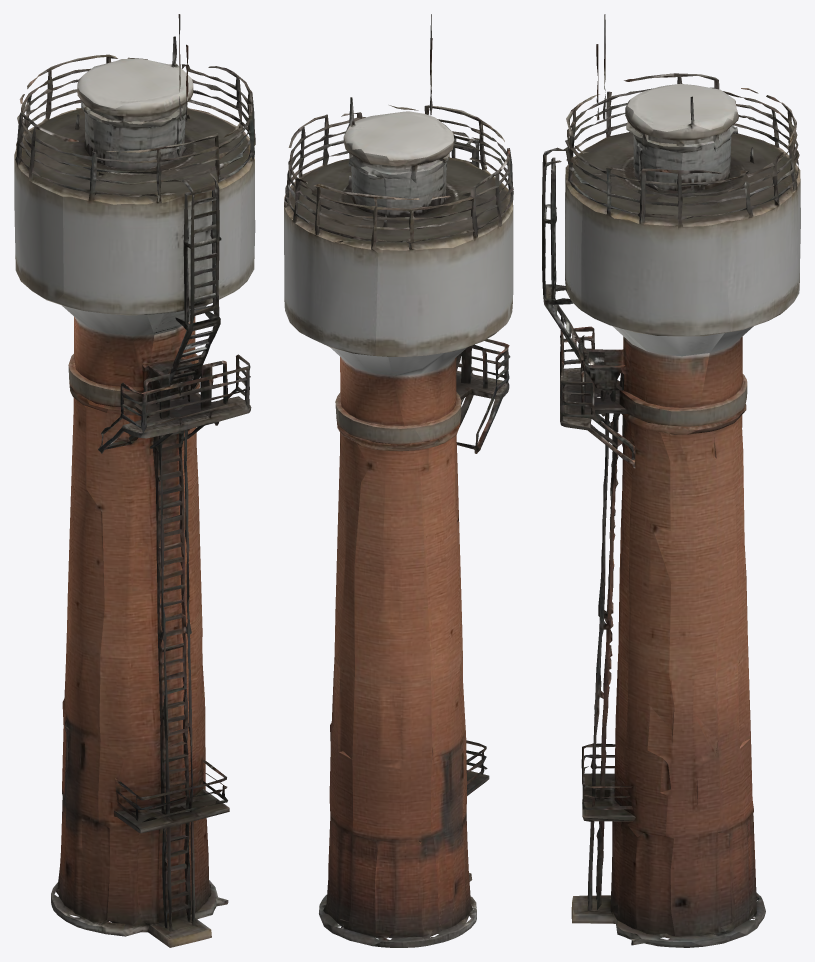
File: water_tower_brick.glb
3 views of the same model, side by side, from view 1: azimuth 30°, elevation 25°; view 2: azimuth 150°, elevation 25°; view 3: azimuth 270°, elevation 25° (orthographic). The views are drawn at different scales.
Parts seen in each view (by area): view 1: water_tower_brick; view 2: water_tower_brick; view 3: water_tower_brick.
Boxes of the visible parts, box(x1,y1,x2,y2) form: water_tower_brick: box(14, 14, 255, 947); water_tower_brick: box(284, 14, 513, 947); water_tower_brick: box(542, 14, 800, 947).
Size of the model in its own units: 0.4728 by 1.93 by 0.5032.
Materials: 1 (1 with a texture image).
